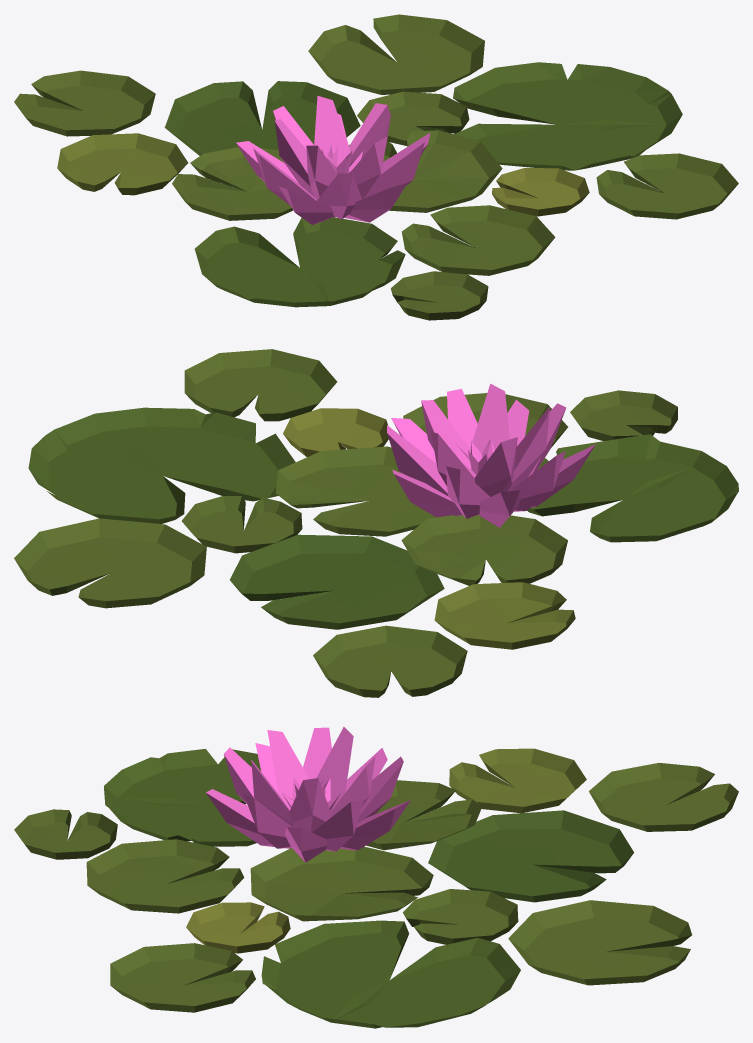
The model's file is zone1-decor5.glb.
The picture shows the model from 3 angles, top to bottom: view 1: azimuth 30°, elevation 25°; view 2: azimuth 150°, elevation 25°; view 3: azimuth 270°, elevation 25°; orthographic projection. The views are drawn at different scales.
Parts seen in each view (by area): view 1: waterplant-lily-water-pond-sprig-a.001; view 2: waterplant-lily-water-pond-sprig-a.001; view 3: waterplant-lily-water-pond-sprig-a.001.
Part boxes in pixels (x1=…): waterplant-lily-water-pond-sprig-a.001: x1=14, y1=14, x2=738, y2=320; waterplant-lily-water-pond-sprig-a.001: x1=14, y1=349, x2=738, y2=697; waterplant-lily-water-pond-sprig-a.001: x1=14, y1=727, x2=738, y2=1028.
Size of the model in its own units: 2.89 by 0.4896 by 3.19.
2 materials, 1 textured.
